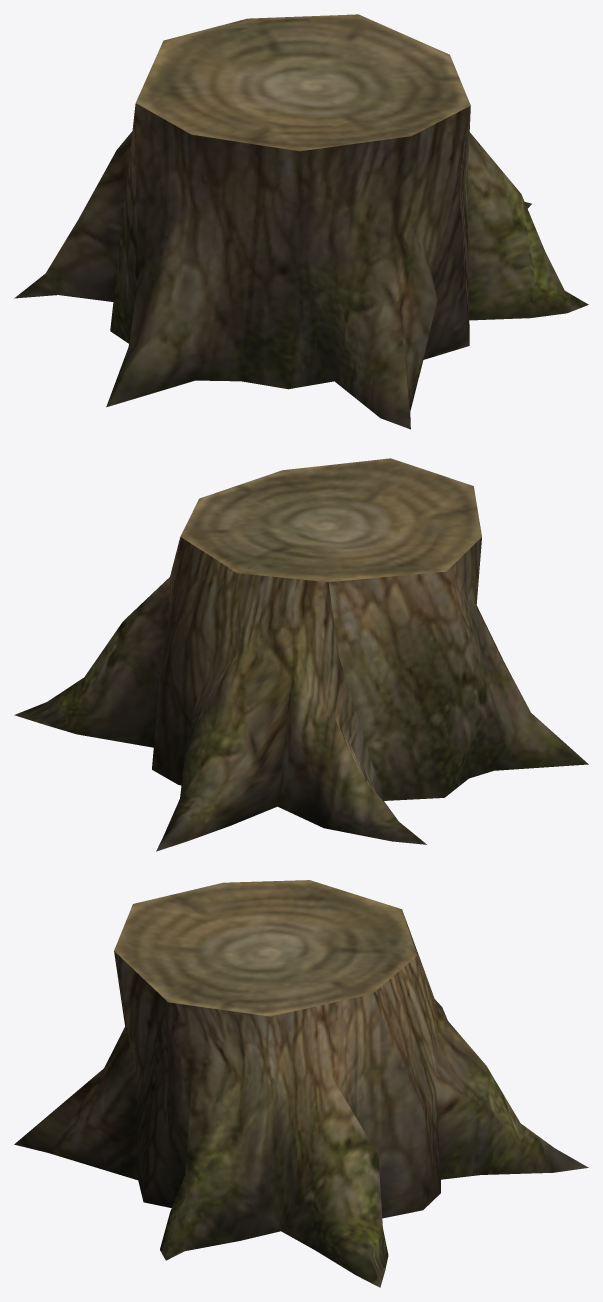
The model's file is SV_PLT_forest_shuzhuang_0.FBX.
3 views of the same model, one above another, from view 1: azimuth 30°, elevation 25°; view 2: azimuth 150°, elevation 25°; view 3: azimuth 270°, elevation 25° (orthographic). The views are drawn at different scales.
Visible parts, largest first — view 1: SV_PLT_forest_shuzhuang_0; view 2: SV_PLT_forest_shuzhuang_0; view 3: SV_PLT_forest_shuzhuang_0.
Boxes of the visible parts, x1=… form: SV_PLT_forest_shuzhuang_0: x1=14, y1=14, x2=588, y2=429; SV_PLT_forest_shuzhuang_0: x1=14, y1=458, x2=588, y2=851; SV_PLT_forest_shuzhuang_0: x1=14, y1=880, x2=588, y2=1287.
Bounding box in the file's own units: 1.57 × 0.6884 × 1.63.
